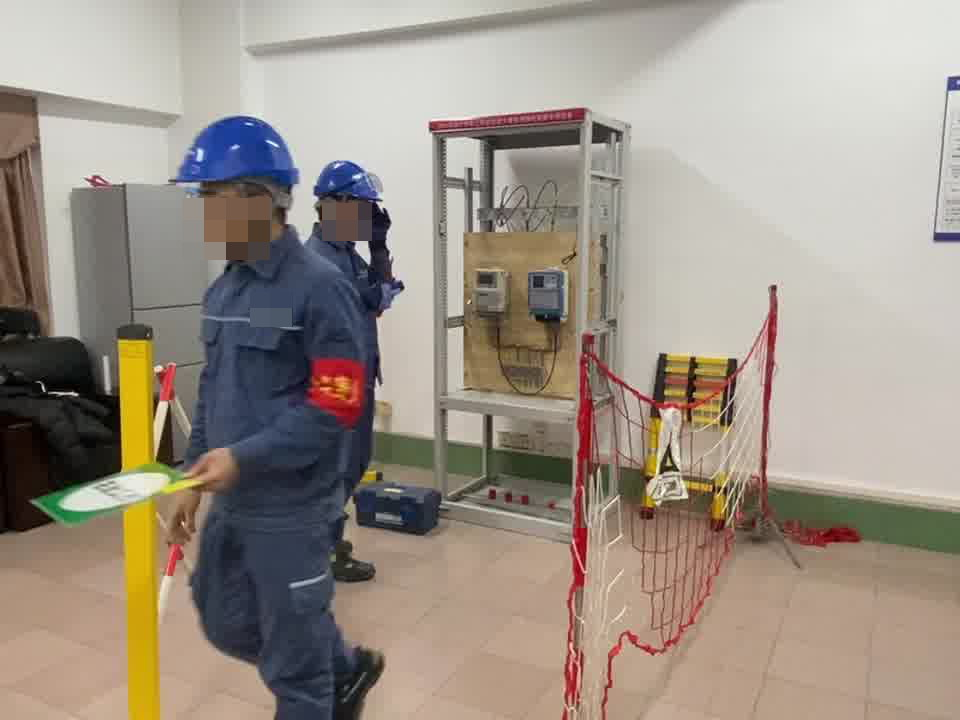badge: (307, 358, 369, 426)
downsuit: (198, 533, 355, 720)
glove: (363, 199, 397, 247), (365, 274, 403, 313)
halt: (167, 112, 300, 255), (311, 159, 384, 239)
hand: (187, 447, 246, 508), (171, 483, 200, 556)
inear: (240, 184, 281, 230), (327, 193, 349, 224)
person: (166, 112, 405, 719)
upsuit: (187, 243, 379, 527)
